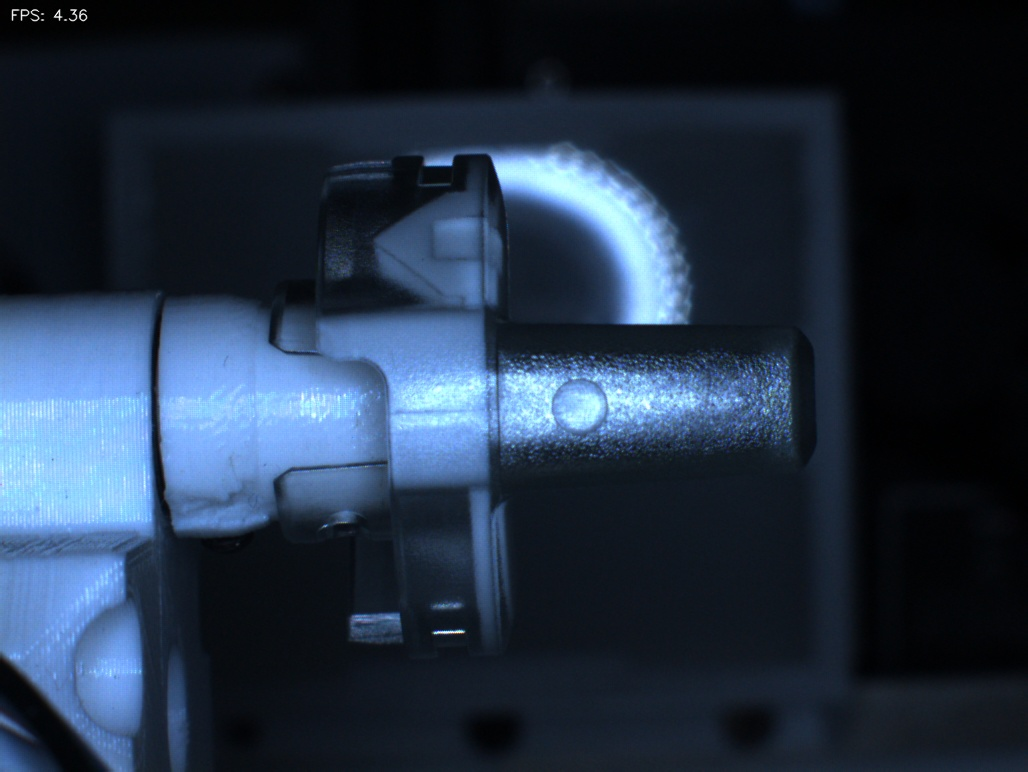DentOk: (342, 203, 416, 278)
